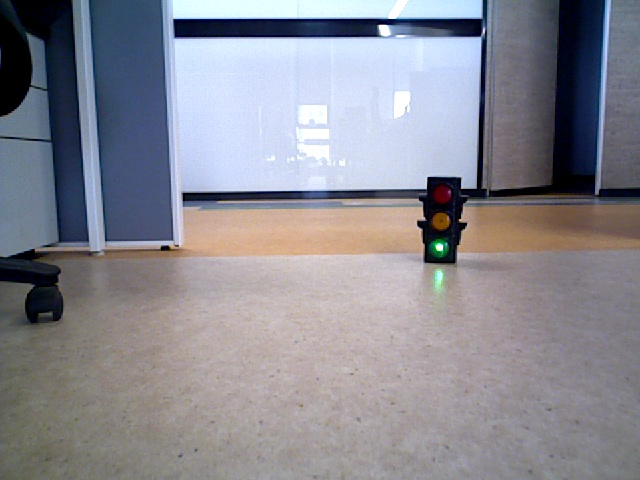green: (425, 178, 456, 256)
